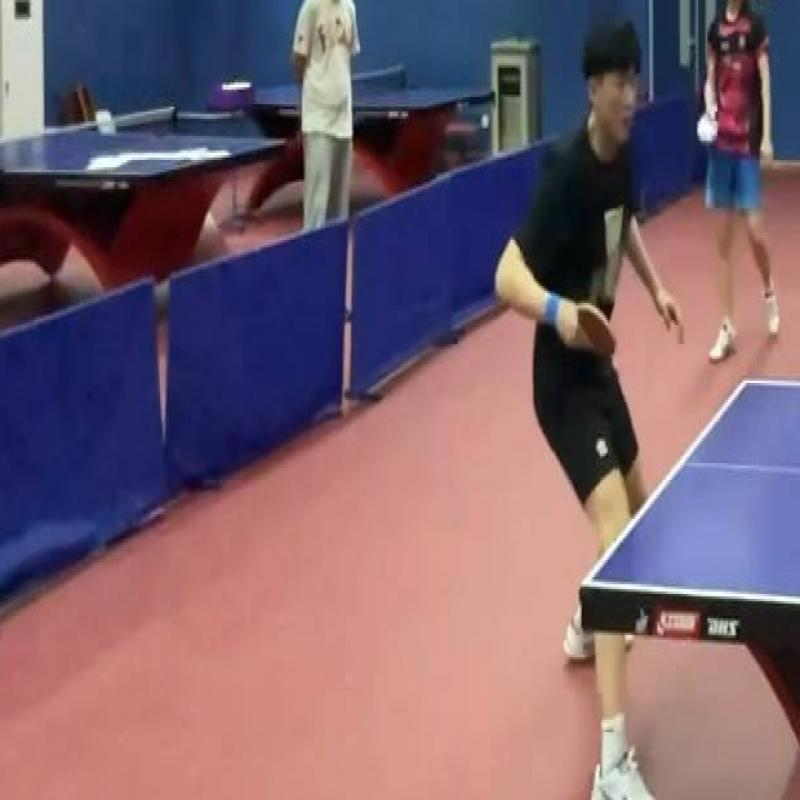bats: (554, 276, 627, 371)
